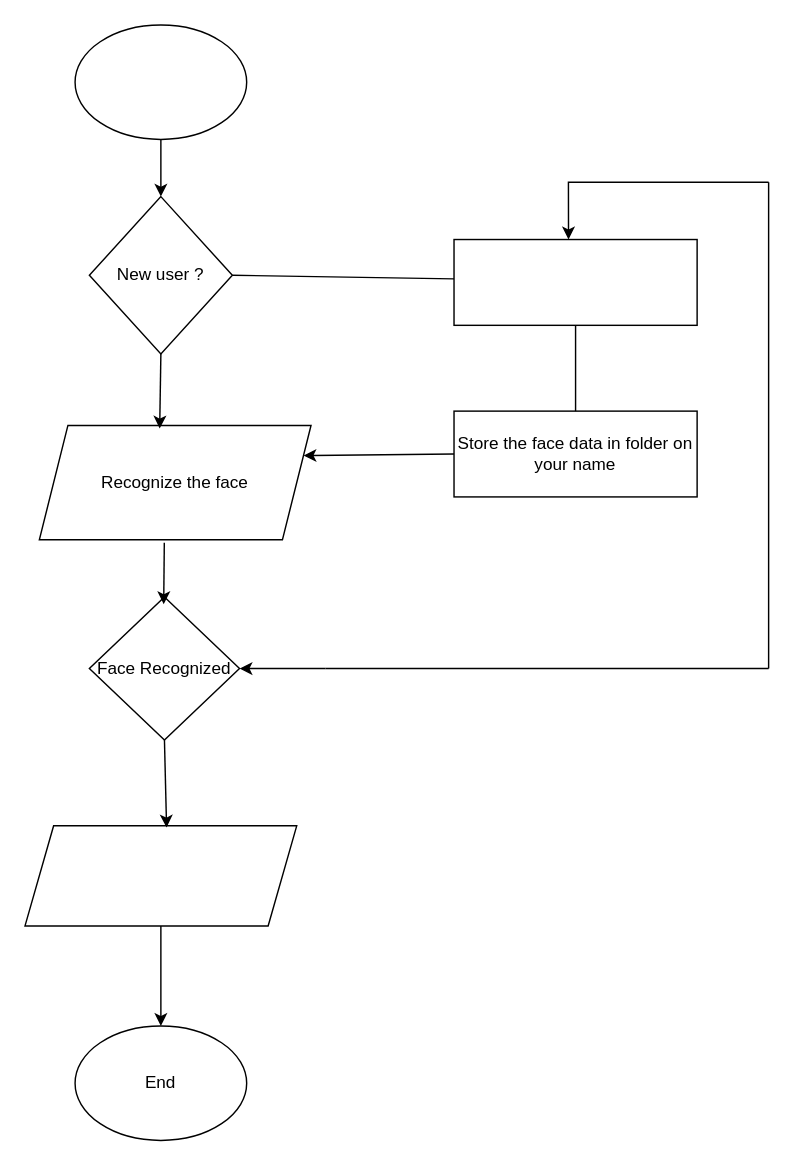
This 805x1165 diagram has some shape labels left out. The box of each missing label's shape, as (x1, y1, x2, y2) in pixels:
Give your photograph: (453, 238, 697, 325)
Start: (74, 24, 247, 139)
Stored in csv file with registration number & data time or entry: (24, 824, 297, 926)
